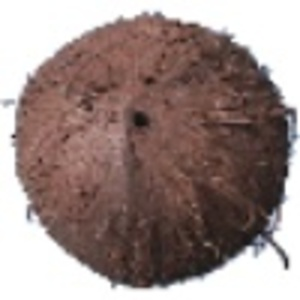coco: (5, 9, 300, 290)
